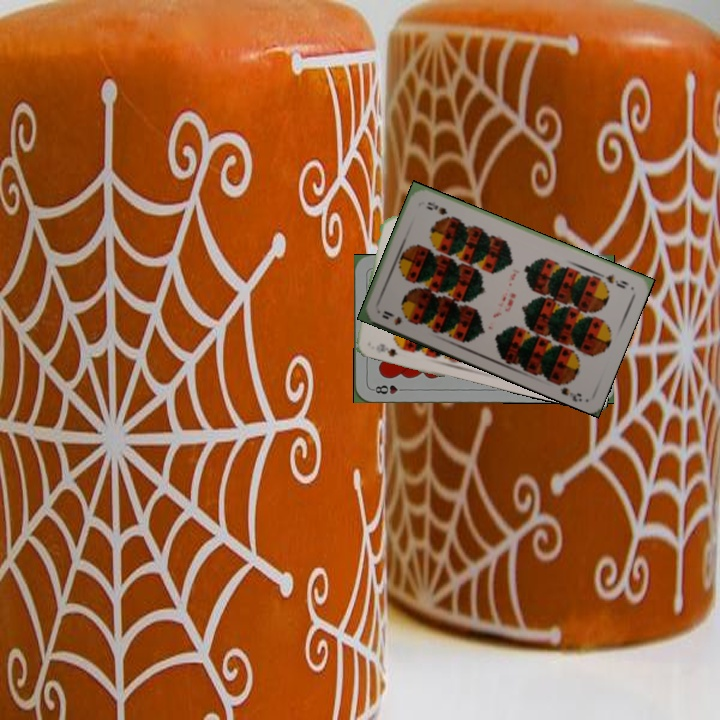H8: (368, 381, 409, 397)
S9: (378, 307, 415, 328), (601, 270, 631, 291), (372, 339, 400, 359)
